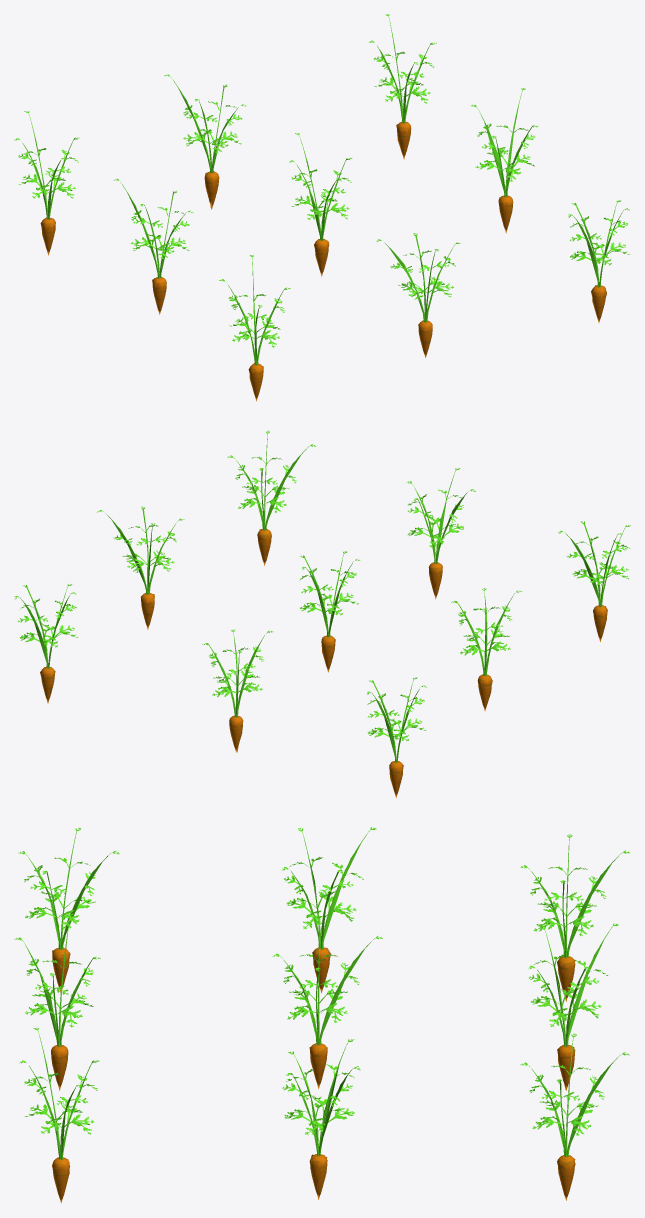
File: Carrot_lvl3.fbx
3 views of the same model, one above another, from view 1: azimuth 30°, elevation 25°; view 2: azimuth 150°, elevation 25°; view 3: azimuth 270°, elevation 25° (orthographic). The views are drawn at different scales.
Parts seen in each view (by area): view 1: Carrot_lvl3_LOD0, Carrot_lvl3_LOD0.003, Carrot_lvl3_LOD0.002, Carrot_lvl3_LOD0.001; view 2: Carrot_lvl3_LOD0, Carrot_lvl3_LOD0.003, Carrot_lvl3_LOD0.002, Carrot_lvl3_LOD0.001; view 3: Carrot_lvl3_LOD0, Carrot_lvl3_LOD0.003, Carrot_lvl3_LOD0.002, Carrot_lvl3_LOD0.001.
Boxes of the visible parts, box(x1,y1,x2,y2) form: Carrot_lvl3_LOD0: box(14, 15, 629, 397); Carrot_lvl3_LOD0.003: box(16, 14, 628, 373); Carrot_lvl3_LOD0.002: box(16, 14, 629, 401); Carrot_lvl3_LOD0.001: box(15, 14, 627, 398); Carrot_lvl3_LOD0: box(14, 432, 630, 793); Carrot_lvl3_LOD0.003: box(15, 432, 627, 772); Carrot_lvl3_LOD0.002: box(15, 431, 629, 797); Carrot_lvl3_LOD0.001: box(16, 431, 630, 795); Carrot_lvl3_LOD0: box(15, 827, 630, 1200); Carrot_lvl3_LOD0.003: box(18, 827, 629, 1201); Carrot_lvl3_LOD0.002: box(16, 827, 628, 1203); Carrot_lvl3_LOD0.001: box(15, 828, 628, 1201).
Size of the model in its own units: 98.87 by 95.24 by 29.66.
